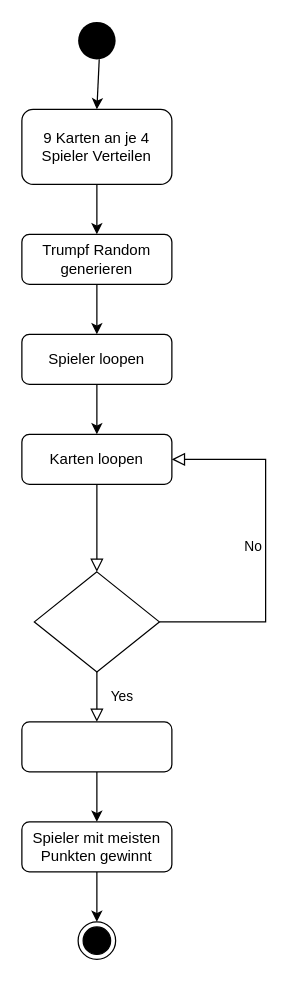
The diagram is 300 pixels wide and 981 high, and some of its shapes have lost their labels. Here are the shapes that lost their labels. From the top down, the centre of each, then its label:
pixel 96 621: Ist Trumpf?
pixel 96 746: Punkte der Karte zur Summe hinzufügen
